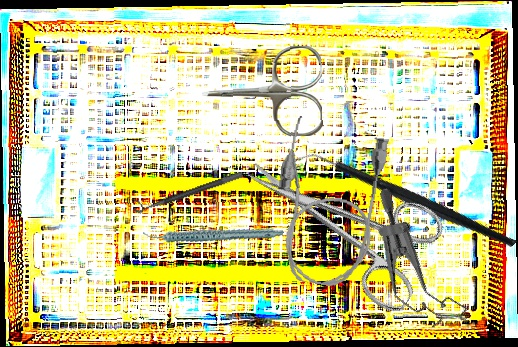Cannula: (264, 114, 391, 292)
Chopper: (294, 91, 517, 311)
Fixation Ring: (130, 161, 244, 216)
Handpiece: (141, 200, 285, 266)
Iris Scissors: (225, 119, 455, 318), (201, 45, 323, 139)
Speculum: (333, 185, 502, 343)
